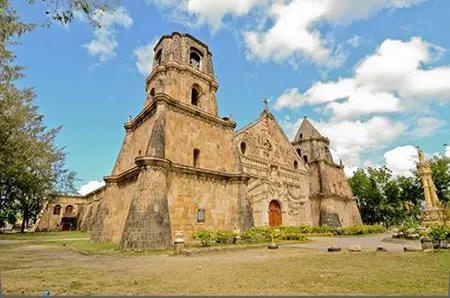miagao_church_miagao_iloilo: (93, 21, 365, 234)
